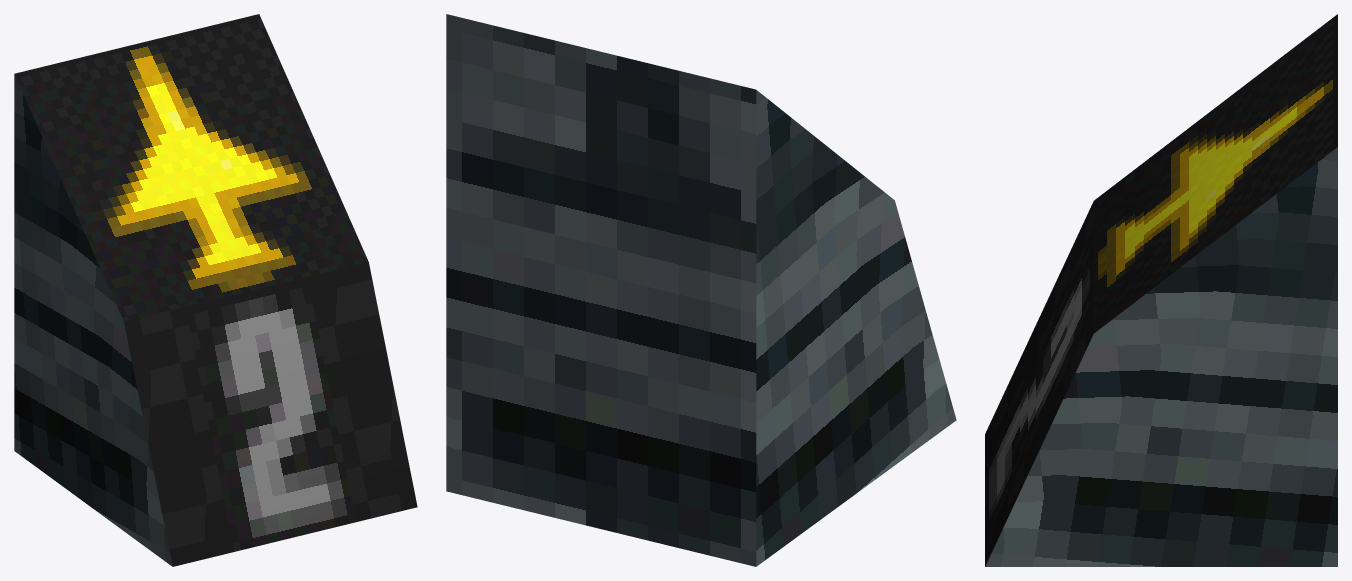
3 views of the same model, side by side, from view 1: azimuth 30°, elevation 25°; view 2: azimuth 150°, elevation 25°; view 3: azimuth 270°, elevation 25° (orthographic). The views are drawn at different scales.
Visible parts, largest first — view 1: Hk_obj_031; view 2: Hk_obj_031; view 3: Hk_obj_031.
Boxes of the visible parts, x1=… form: Hk_obj_031: x1=14, y1=14, x2=417, y2=566; Hk_obj_031: x1=446, y1=14, x2=956, y2=566; Hk_obj_031: x1=985, y1=14, x2=1337, y2=566.
Bounding box in the file's own units: 0.5996 × 0.8828 × 0.6719.
Materials: 1 (1 with a texture image).
